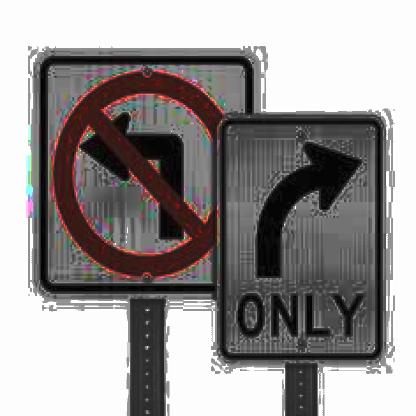No left turn: (50, 62, 226, 290)
